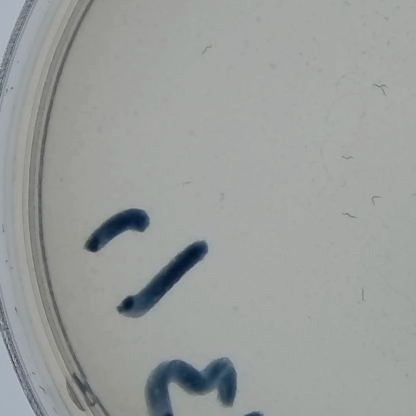worm: (349, 274, 373, 304), (216, 187, 236, 213), (195, 35, 215, 59), (372, 81, 393, 101), (398, 315, 416, 338), (337, 206, 362, 220), (325, 69, 348, 84), (367, 191, 384, 210), (175, 176, 199, 189), (337, 150, 357, 162), (406, 187, 416, 200)
